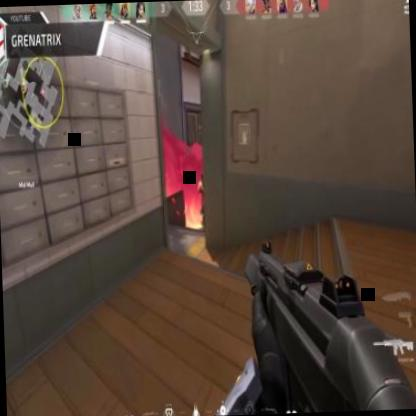enemy: (197, 173, 212, 233)
enemy_head: (200, 172, 204, 182)
